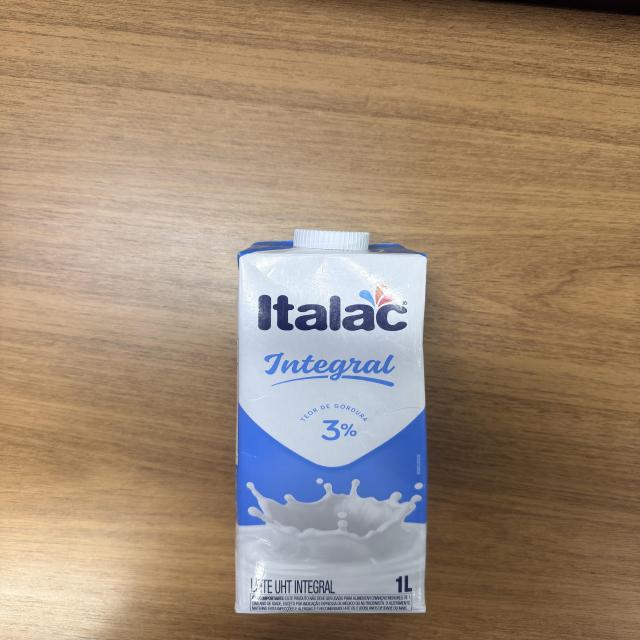Caixa de Leite: (232, 229, 432, 612)
